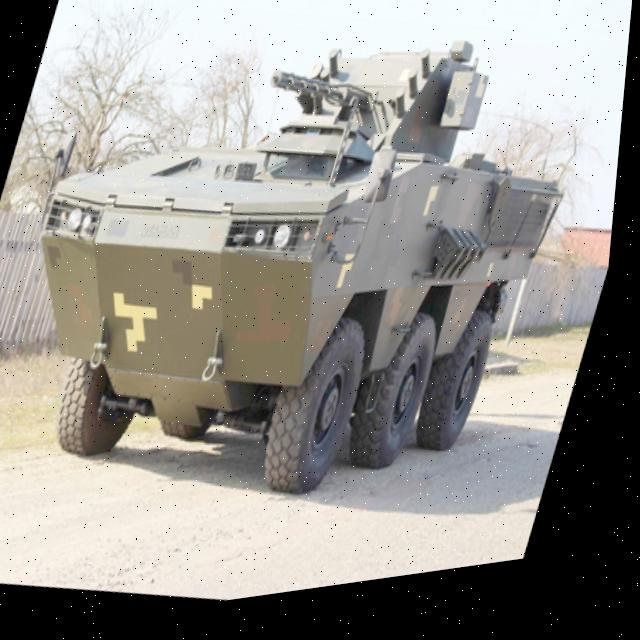MIL_APC: (0, 0, 639, 589)
